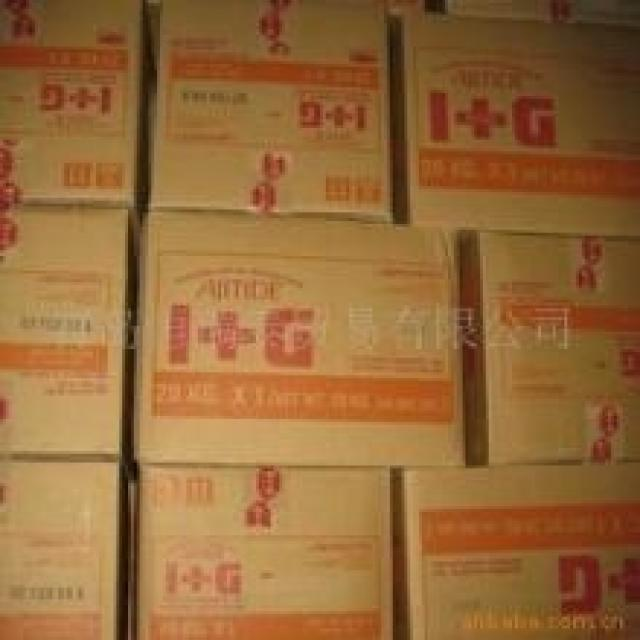box: (133, 206, 463, 464), (390, 10, 637, 239), (147, 1, 395, 218), (130, 464, 393, 637), (390, 460, 636, 637), (462, 226, 637, 465), (0, 202, 134, 468), (0, 1, 151, 221), (0, 458, 131, 637), (432, 3, 554, 24), (554, 2, 637, 30), (388, 2, 432, 26), (144, 3, 160, 66)
